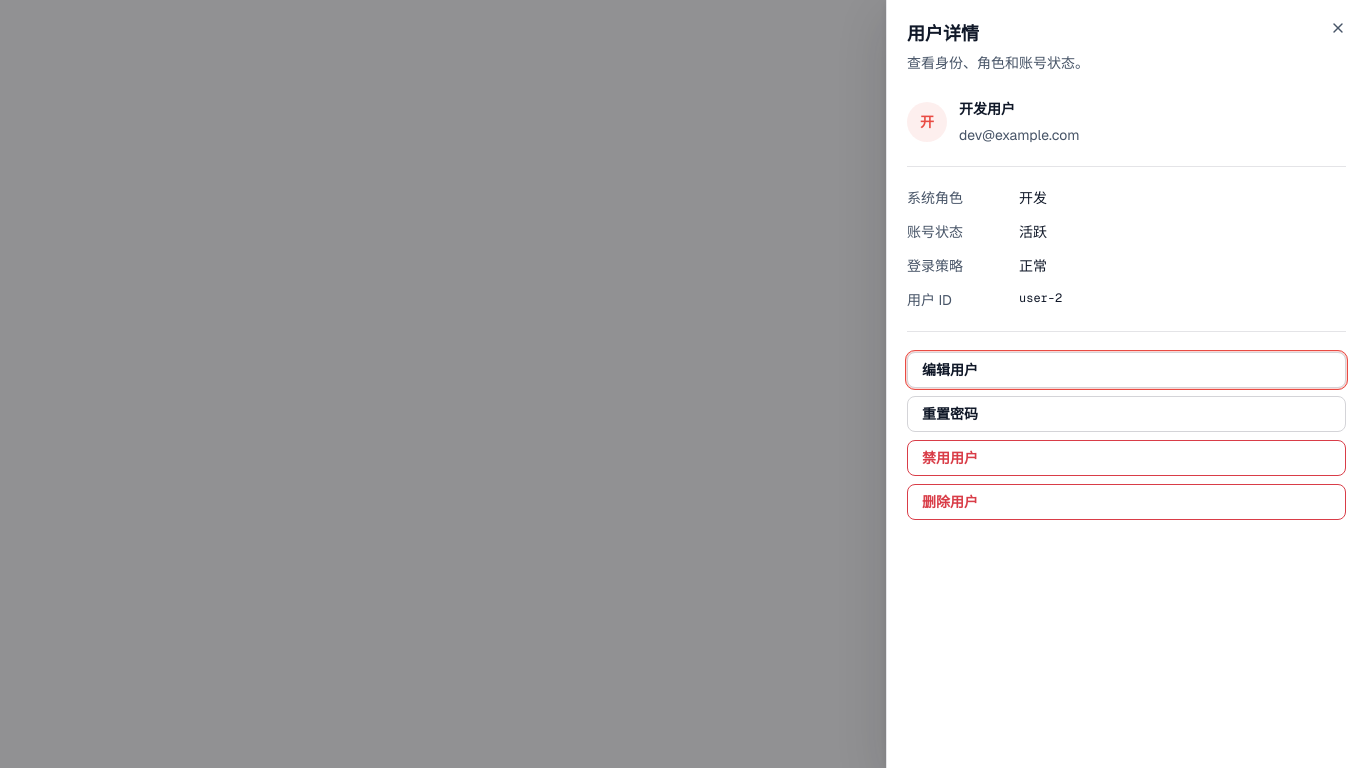
Scenario: UserDrawer actions › shows delete confirmation with impact text
Step 1. Click the button "删除用户" → (950, 502), box [907,484,1346,520]
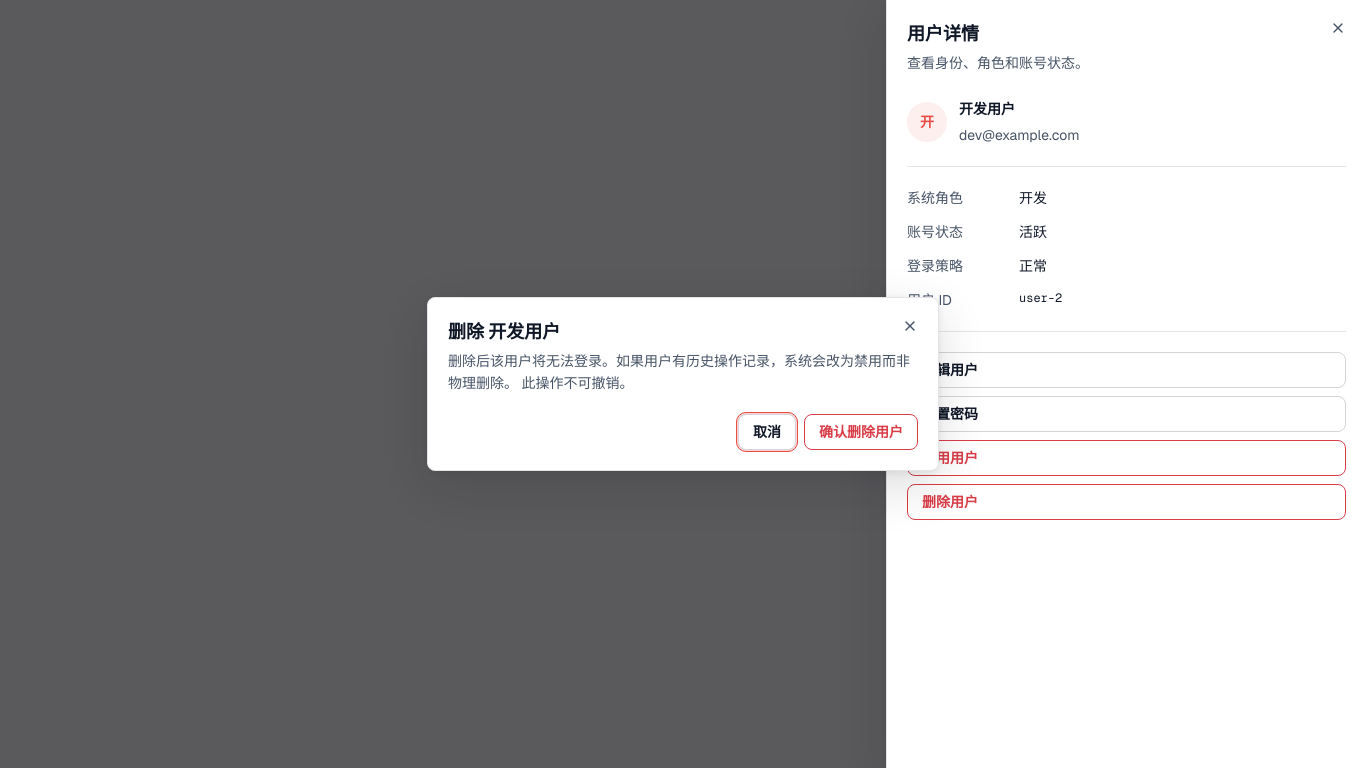
Check: the text "删除后该用户将无法登录。如果用户有历史操作记录，系统会改为禁用而非物理删除。 此操作不可撤销。" is shown, box [448,350,918,394]
